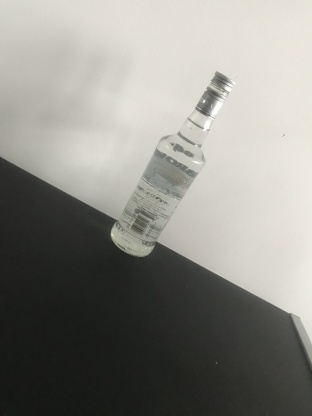nakretka: (193, 69, 236, 121)
